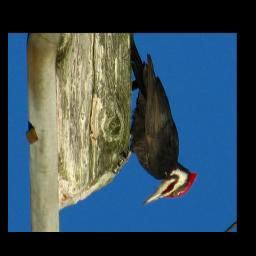Woodpecker: (116, 36, 202, 206)
